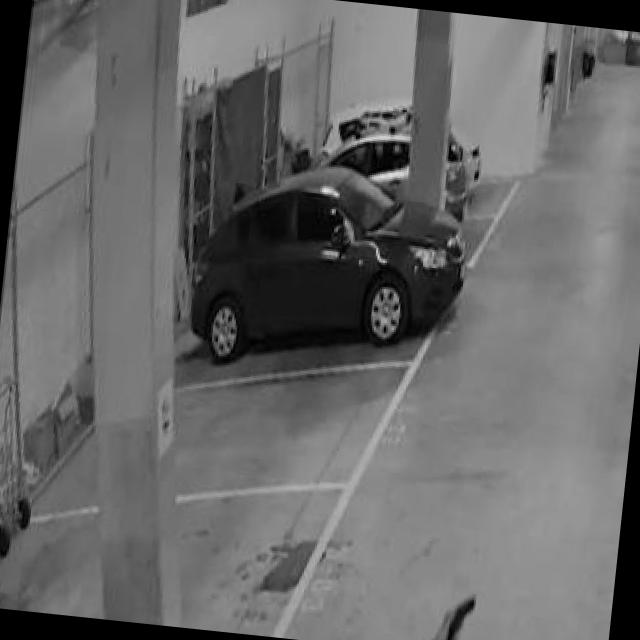Guns: (428, 581, 483, 640)
